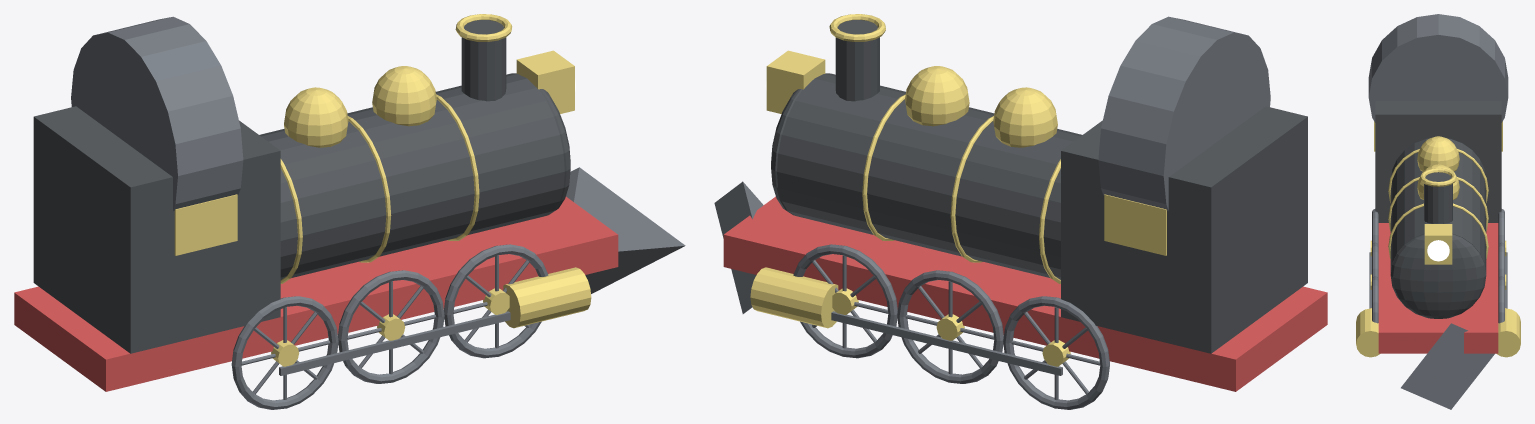
The model's file is steam_locomotive.glb.
The picture shows the model from 3 angles, left to right: view 1: azimuth 30°, elevation 25°; view 2: azimuth 150°, elevation 25°; view 3: azimuth 270°, elevation 25°; orthographic projection. The views are drawn at different scales.
Visible parts, largest first — view 1: DriversCab, BoilerBody, ChassisFrame, CabRoof, Cowcatcher, Cylinder.054, Smokestack, SteamDome, DriveWheel_-0.9_-0.95, SandDome, DriveWheel_0.3_-0.95, Cube (+8 smaller); view 2: DriversCab, BoilerBody, ChassisFrame, CabRoof, Cylinder.055, SteamDome, SandDome, DriveWheel_-0.9_0.95, Smokestack, DriveWheel_0.3_0.95, Cube.001, DriveWheel_1.5_0.95 (+8 smaller); view 3: CabRoof, DriversCab, ChassisFrame, BoilerDoor, BoilerBody, Cowcatcher, Smokestack, SteamDome, Cylinder.054, Cylinder.055, HeadlightHousing, BoilerBand_1.4 (+11 smaller).
Boxes of the visible parts, box(x1,y1,x2,y2) form: DriversCab: box(33, 106, 280, 353); BoilerBody: box(259, 73, 564, 279); ChassisFrame: box(14, 196, 618, 391); CabRoof: box(71, 16, 243, 211); Cowcatcher: box(566, 167, 685, 293); Cylinder.054: box(503, 267, 591, 328); Smokestack: box(461, 20, 506, 101); SteamDome: box(284, 87, 348, 147); DriveWheel_-0.9_-0.95: box(231, 296, 338, 409); SandDome: box(372, 66, 436, 126); DriveWheel_0.3_-0.95: box(338, 270, 444, 383); Cube: box(174, 194, 237, 255); DriversCab: box(1061, 106, 1307, 353); BoilerBody: box(777, 73, 1081, 279); ChassisFrame: box(723, 196, 1327, 391); CabRoof: box(1098, 16, 1270, 210); Cylinder.055: box(750, 267, 838, 328); SteamDome: box(993, 87, 1057, 147); SandDome: box(905, 66, 969, 126); DriveWheel_-0.9_0.95: box(1003, 296, 1109, 409); Smokestack: box(835, 20, 879, 101); DriveWheel_0.3_0.95: box(897, 270, 1003, 383); Cube.001: box(1104, 194, 1166, 255); DriveWheel_1.5_0.95: box(793, 244, 897, 358); CabRoof: box(1368, 14, 1508, 122); DriversCab: box(1375, 101, 1501, 222); ChassisFrame: box(1378, 223, 1498, 353); BoilerDoor: box(1390, 234, 1486, 318); BoilerBody: box(1390, 138, 1486, 273); Cowcatcher: box(1401, 323, 1494, 409); Smokestack: box(1424, 172, 1452, 223); SteamDome: box(1417, 136, 1459, 171); Cylinder.054: box(1356, 308, 1380, 357); Cylinder.055: box(1496, 308, 1520, 357); HeadlightHousing: box(1424, 224, 1452, 264); BoilerBand_1.4: box(1388, 203, 1488, 259).
Size of the model in its own units: 6.75 by 4.12 by 2.48.
